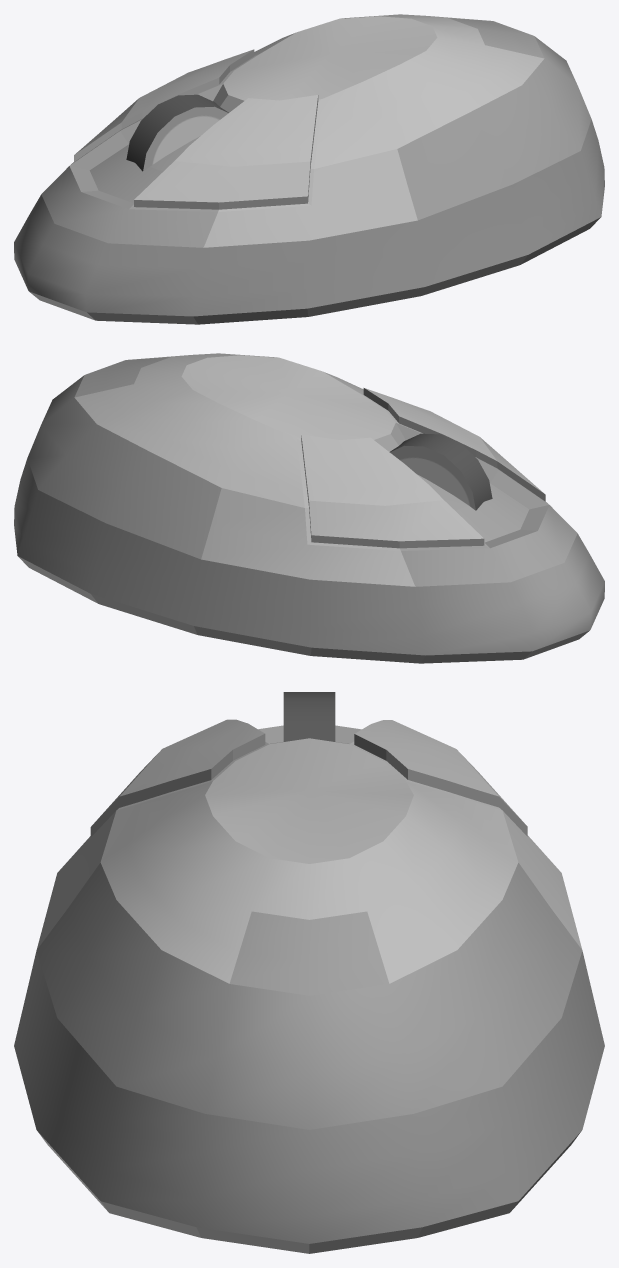
File: Mouse.fbx
3 renders of one model, top to bottom at view 1: azimuth 30°, elevation 25°; view 2: azimuth 150°, elevation 25°; view 3: azimuth 270°, elevation 25°, orthographic. The views are drawn at different scales.
Visible parts, largest first — view 1: pCylinder2; view 2: pCylinder2; view 3: pCylinder2.
Part boxes in pixels (x1,y1,x2,y2): pCylinder2: (14, 14, 604, 324); pCylinder2: (14, 353, 604, 663); pCylinder2: (14, 692, 604, 1253).
Size of the model in its own units: 38.22 by 11.57 by 22.3.
